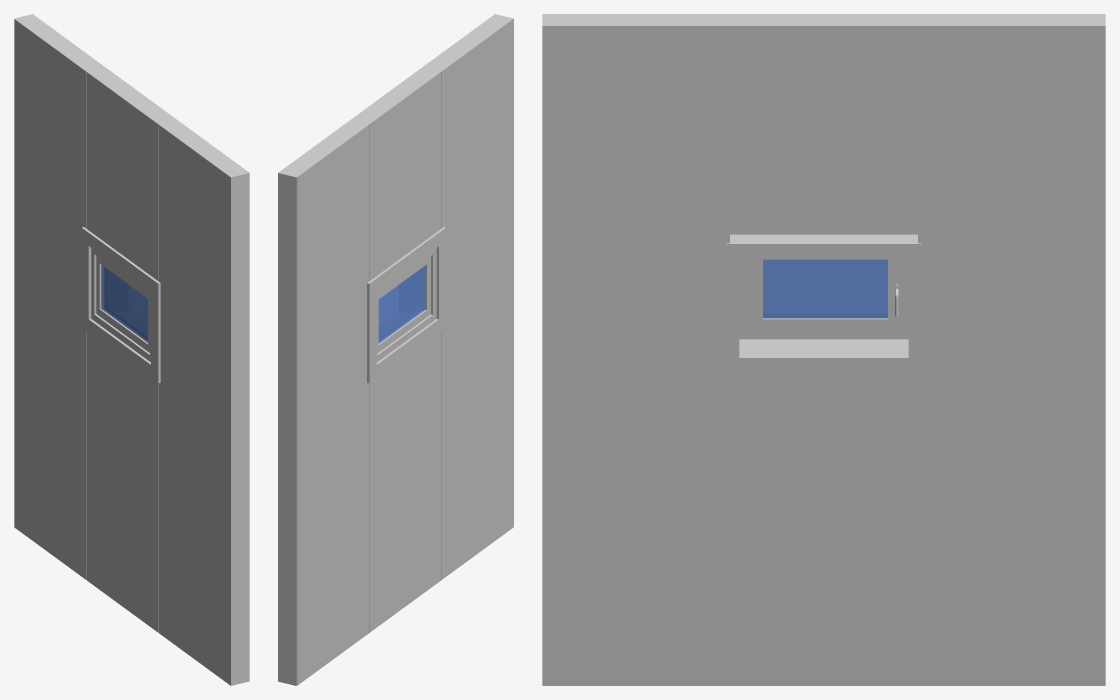
The model's file is window_1x0_7.fbx.
3 renders of one model, left to right at view 1: azimuth 30°, elevation 25°; view 2: azimuth 150°, elevation 25°; view 3: azimuth 270°, elevation 25°, orthographic. The views are drawn at different scales.
Visible parts, largest first — view 1: Group4, Group1, Group2, Group3, Group8, Group6, Group7; view 2: Group1, Group4, Group2, Group3, Group8, Group6, Group7; view 3: Group1, Group4, Group2, Group3, Group9, Group7, Group6.
Part boxes in pixels (x1,y1,x2,y2): Group4: (159,120,249,685); Group1: (14,14,104,579); Group2: (86,331,158,632); Group3: (86,67,176,281); Group8: (81,227,160,383); Group6: (101,265,147,342); Group7: (104,267,147,340); Group1: (278,120,369,685); Group4: (423,14,513,579); Group2: (369,331,441,632); Group3: (351,67,441,280); Group8: (367,227,446,383); Group6: (378,266,425,343); Group7: (379,269,421,341); Group1: (918,14,1105,685); Group4: (542,14,729,685); Group2: (730,370,917,685); Group3: (730,14,917,234); Group9: (726,234,921,369); Group7: (763,259,887,318); Group6: (763,260,887,317).
Size of the model in its own units: 330 by 3877 by 3000.
